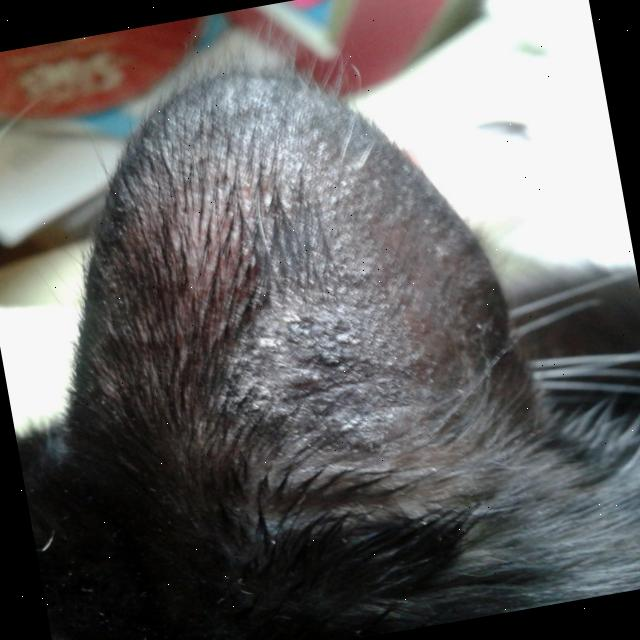cat-scabies: (238, 276, 410, 406)
